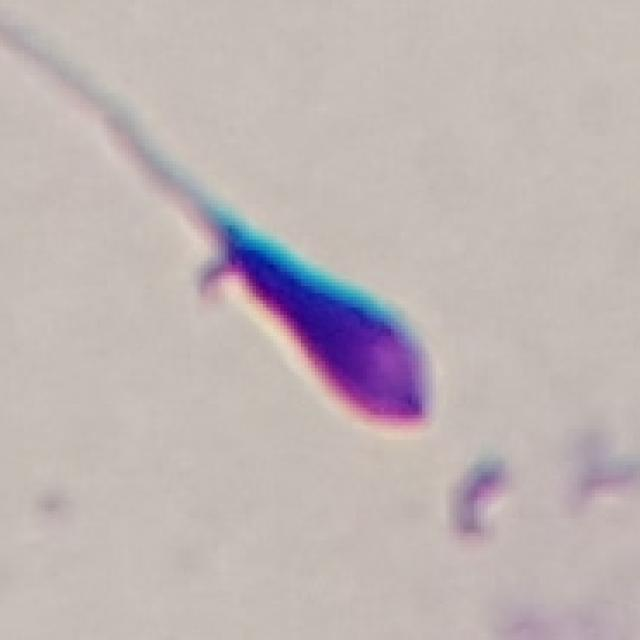abnormal sperm: (99, 98, 438, 430)
